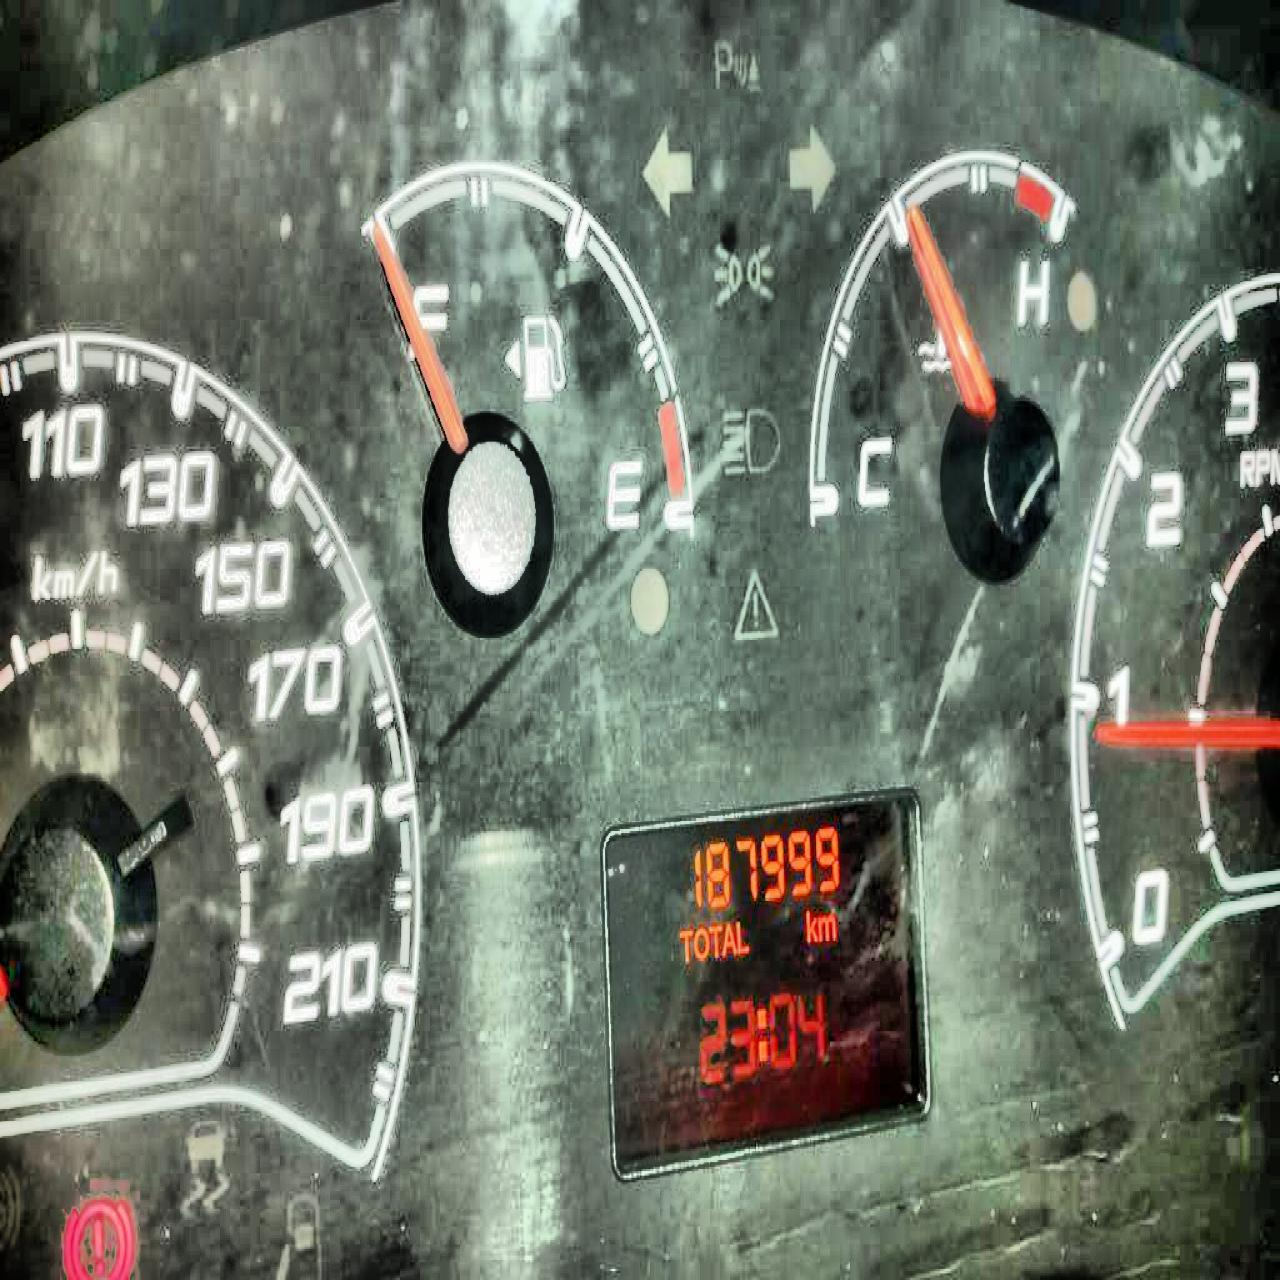0: (768, 987, 794, 1074)
1: (693, 845, 702, 911)
2: (699, 1002, 726, 1087)
3: (729, 993, 756, 1077)
4: (797, 989, 828, 1060)
7: (734, 833, 758, 905)
8: (703, 838, 733, 908)
9: (787, 824, 812, 896), (760, 829, 784, 903), (815, 822, 837, 891)
X: (817, 911, 837, 942), (678, 925, 693, 965), (721, 918, 735, 960), (735, 918, 750, 955), (693, 922, 708, 960), (708, 918, 722, 958), (757, 1002, 767, 1062), (805, 906, 816, 945)
odometer: (587, 776, 941, 1185)
